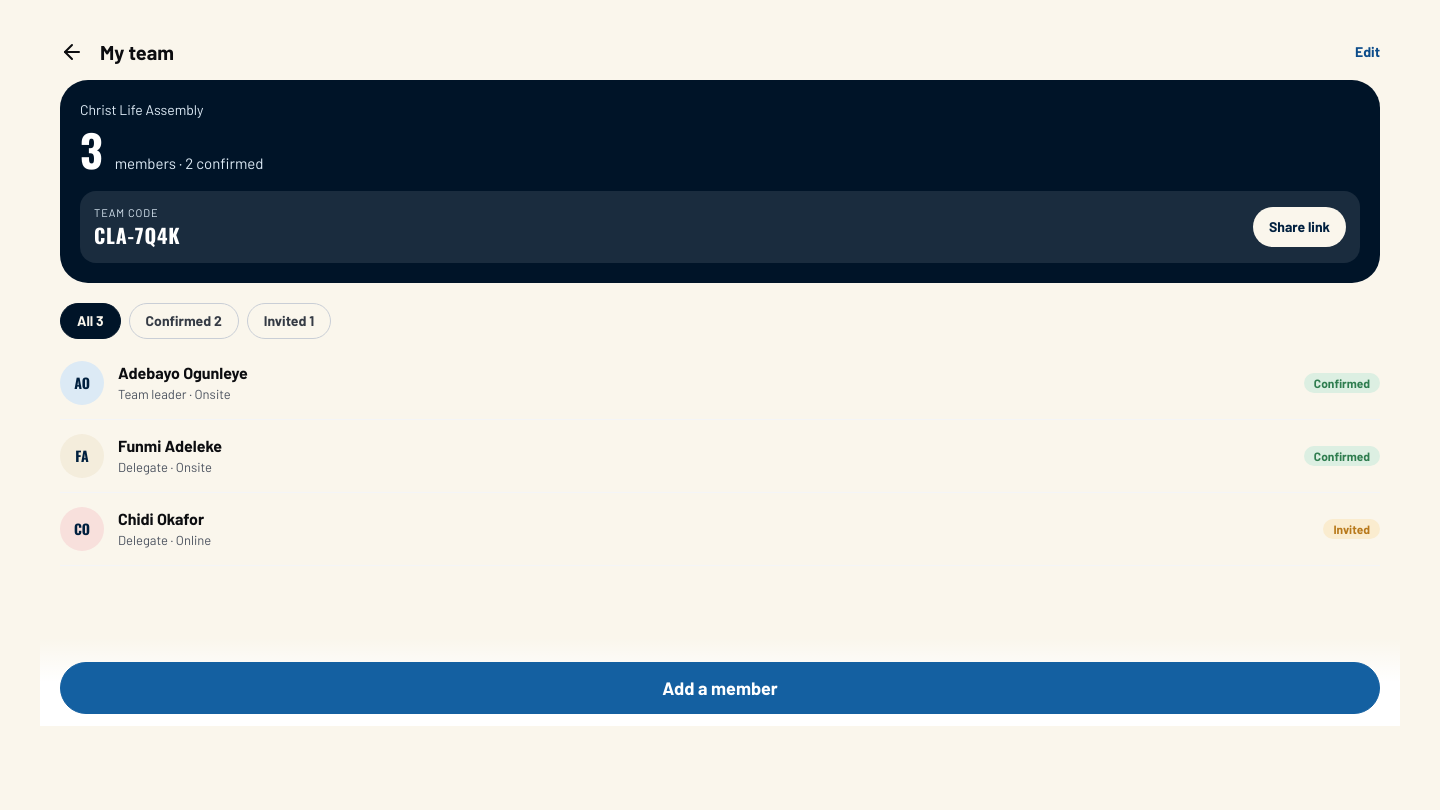
Test: Team (phone) › shows the hero, code and filters the list
This screenshot has width=1440, height=810.
Expected: the text "CLA-7Q4K" is shown, x1=94 y1=221 x2=180 y2=249
Expected: the text "members · 2 confirmed" is shown, x1=115 y1=152 x2=263 y2=174
Click the button "Invited 1" at (289, 321), box x1=247 y1=303 x2=331 y2=339
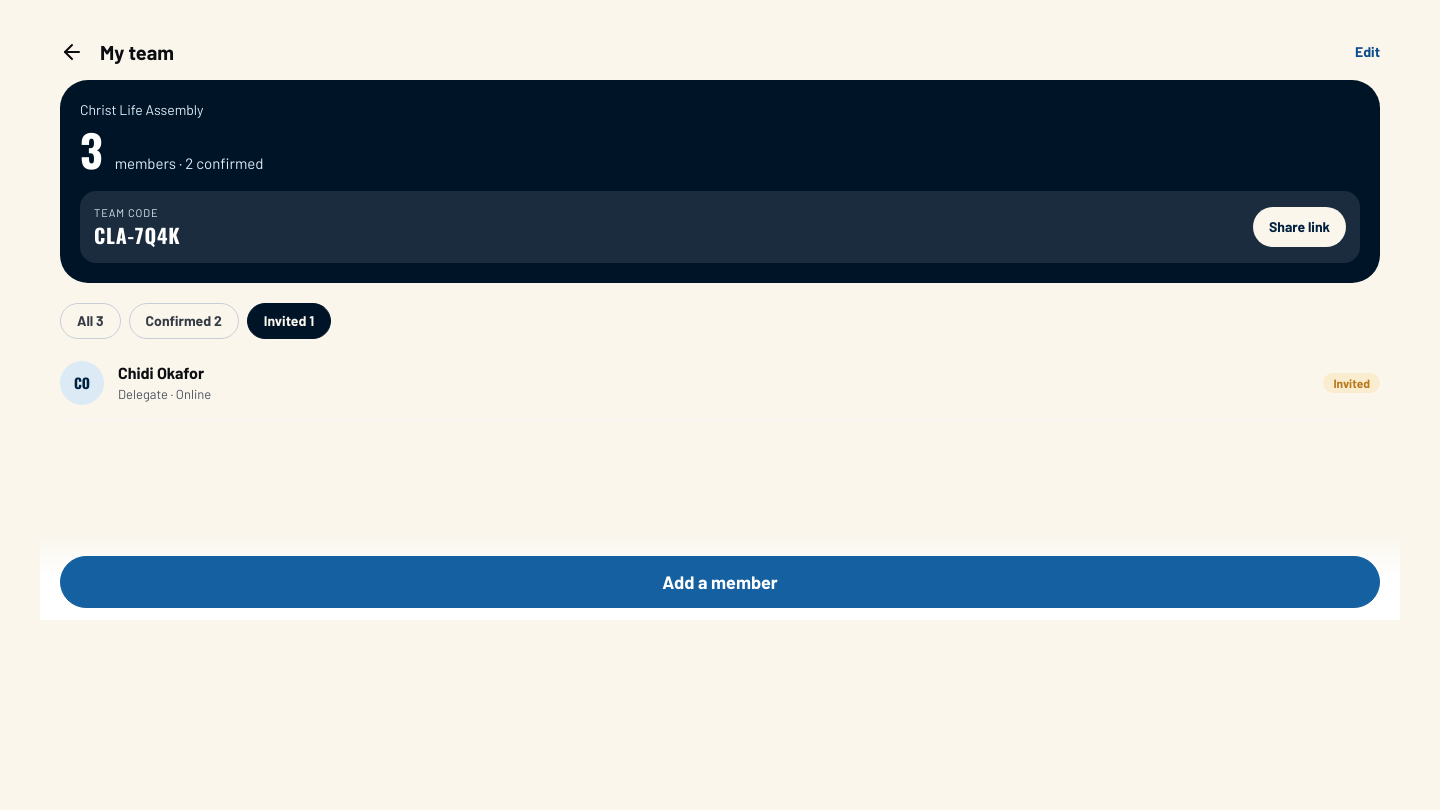
Expected: the text "Chidi Okafor" is shown, x1=118 y1=363 x2=204 y2=382
Now the button "Funmi Adeleke" is gone
